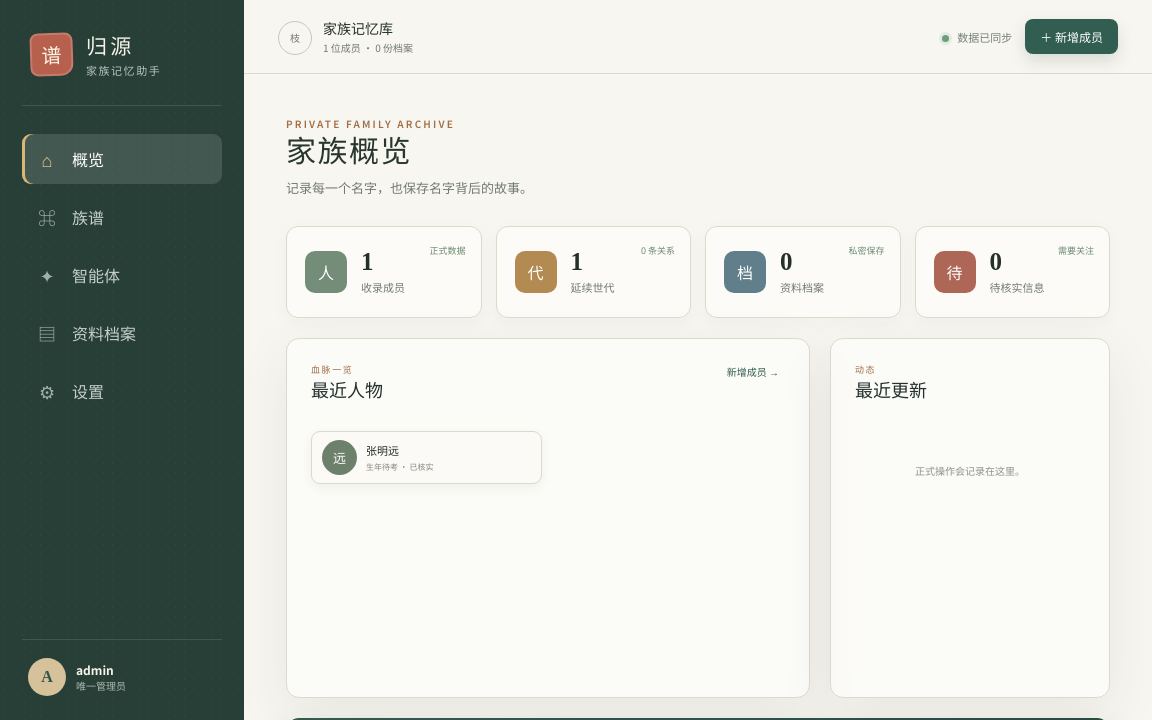
归源家族记忆助手 › 聊天页展示无需模型解析的父母列表
Click the button "✦ 智能体" at (122, 275), box [22,250,222,300]
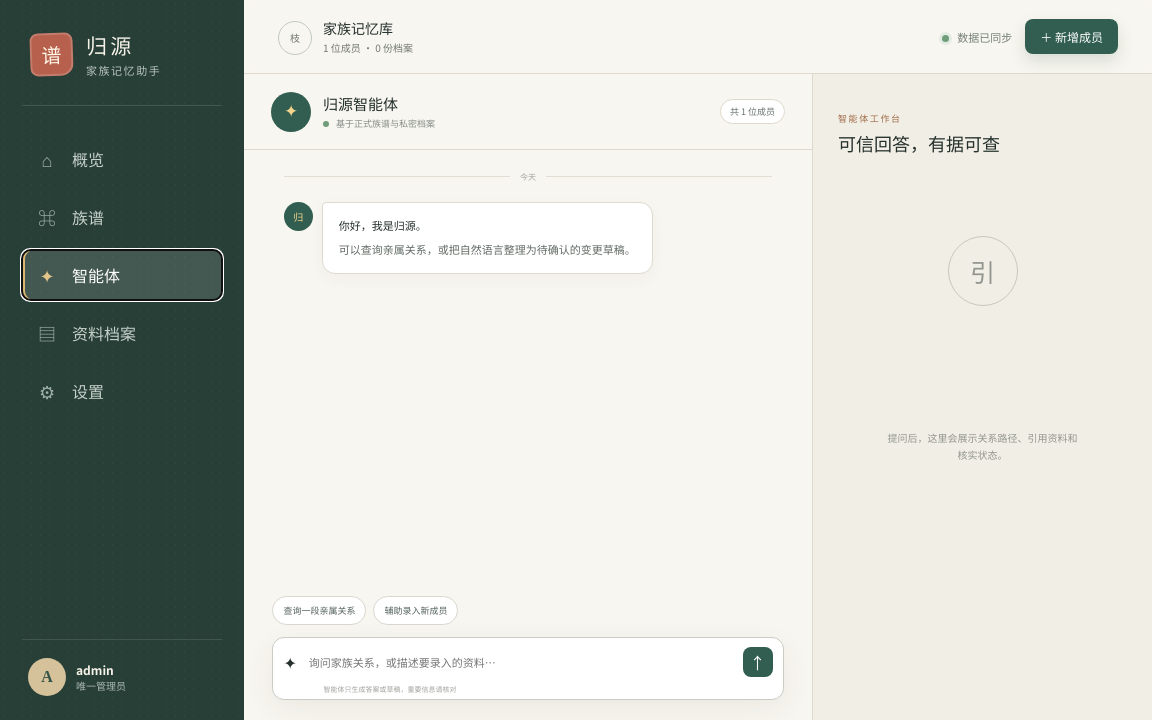
Type "贺志豪的父母是谁" into the field named "向归源提问" at (520, 662), box [305,650,735,674]
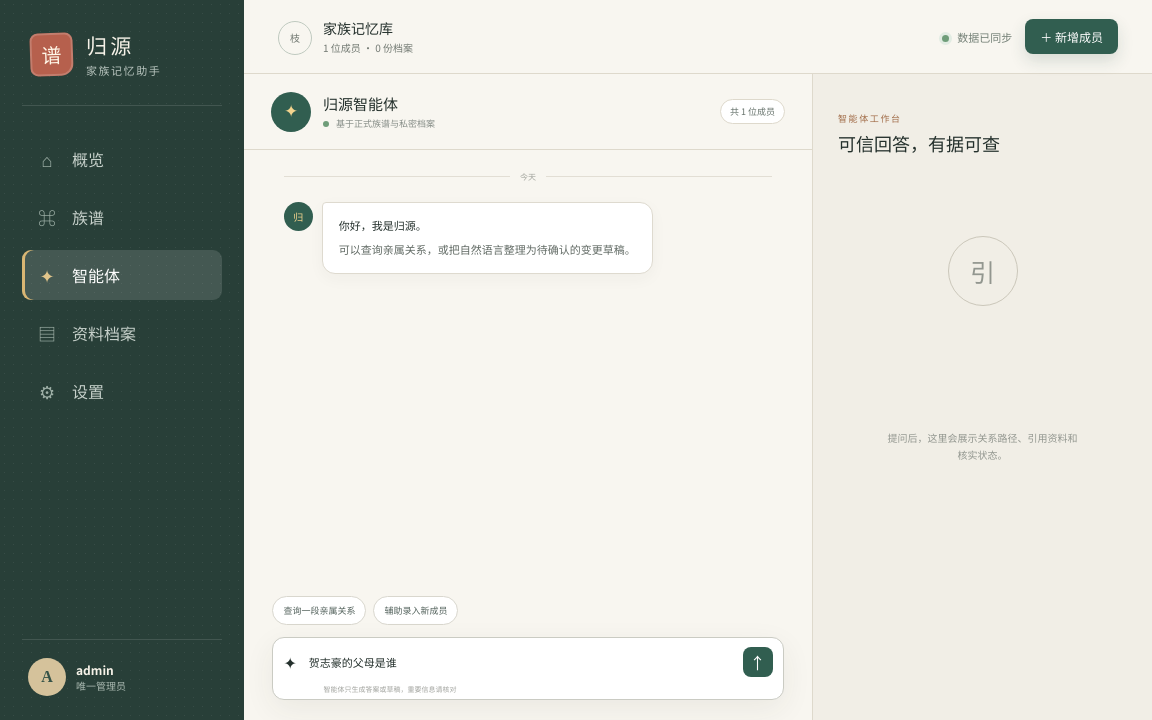
Click the button named "发送" at (758, 662), box [743,647,773,677]
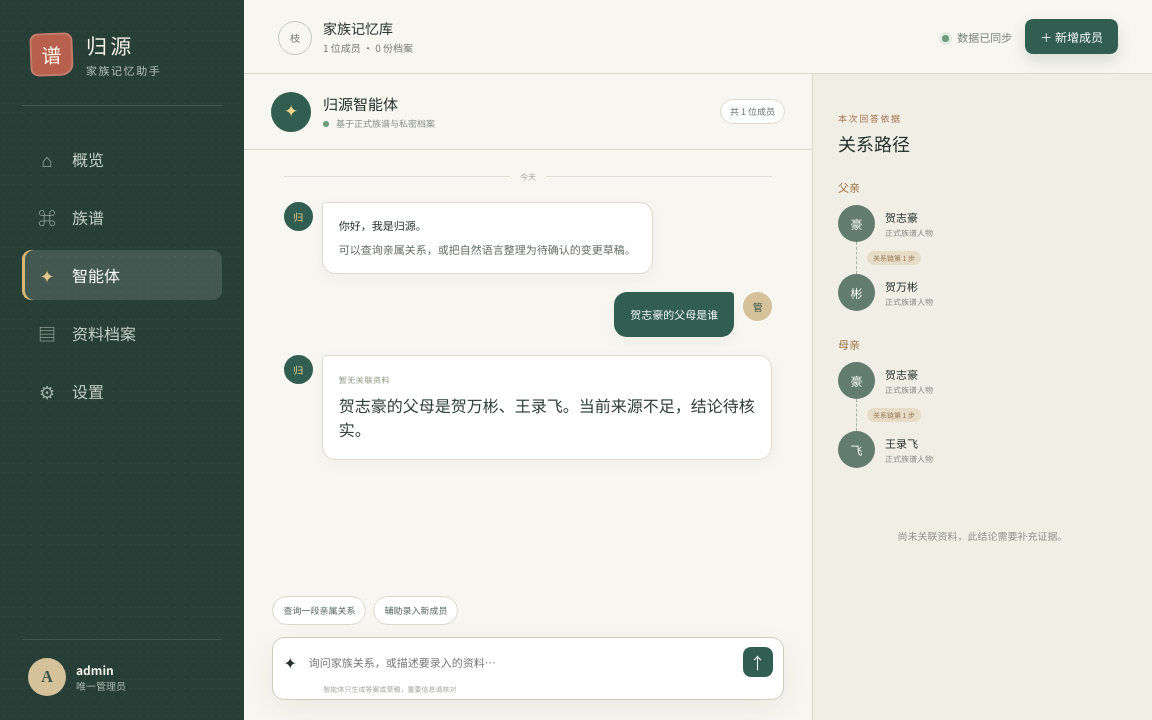
Expected: the text "贺志豪的父母是贺万彬、王录飞。当前来源不足，结论待核实。" is shown, [339,395,755,443]
Expected: the text "父亲" is shown, [838,182,860,194]
Expected: the text "母亲" is shown, [838,339,860,351]
